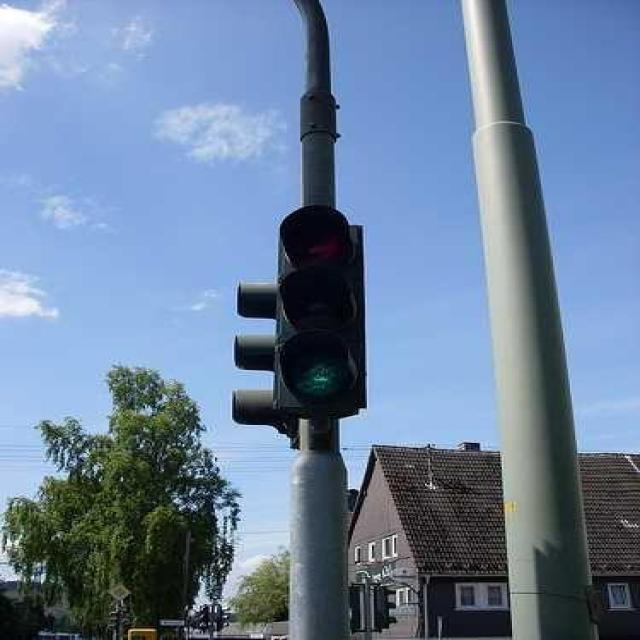Traffic Light -Green-: (273, 202, 369, 418)
